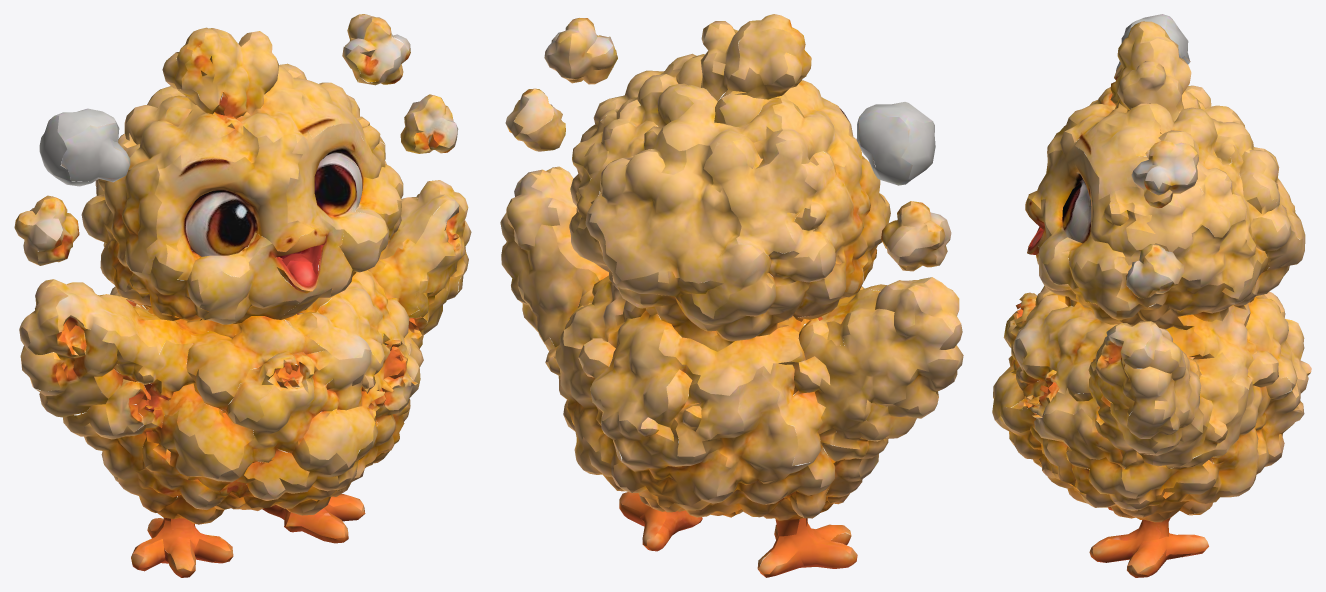
The model's file is popcornpuff.glb.
The picture shows the model from 3 angles, left to right: view 1: azimuth 30°, elevation 25°; view 2: azimuth 150°, elevation 25°; view 3: azimuth 270°, elevation 25°; orthographic projection. The views are drawn at different scales.
Parts seen in each view (by area): view 1: textured_mesh.obj; view 2: textured_mesh.obj; view 3: textured_mesh.obj.
Boxes of the visible parts, box(x1,y1,x2,y2) form: textured_mesh.obj: box(14, 14, 471, 577); textured_mesh.obj: box(500, 14, 963, 577); textured_mesh.obj: box(992, 14, 1311, 577).
Size of the model in its own units: 0.895 by 1 by 0.5933.
1 material, 1 textured.
